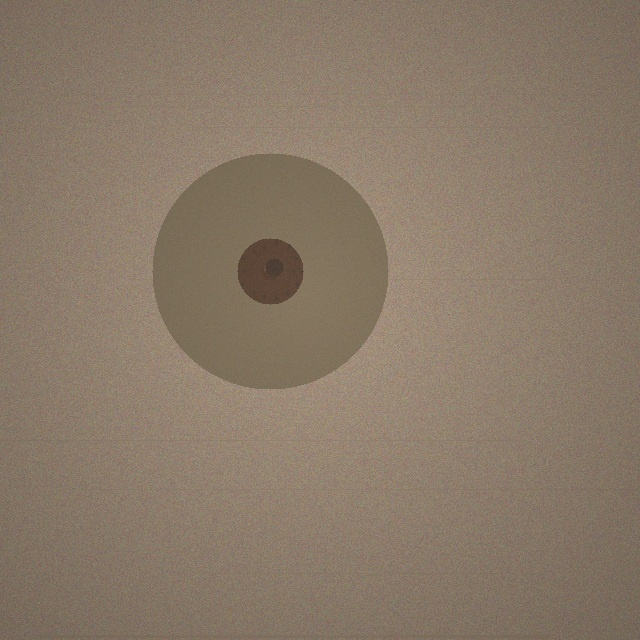cold_weld: (152, 153, 388, 389)
